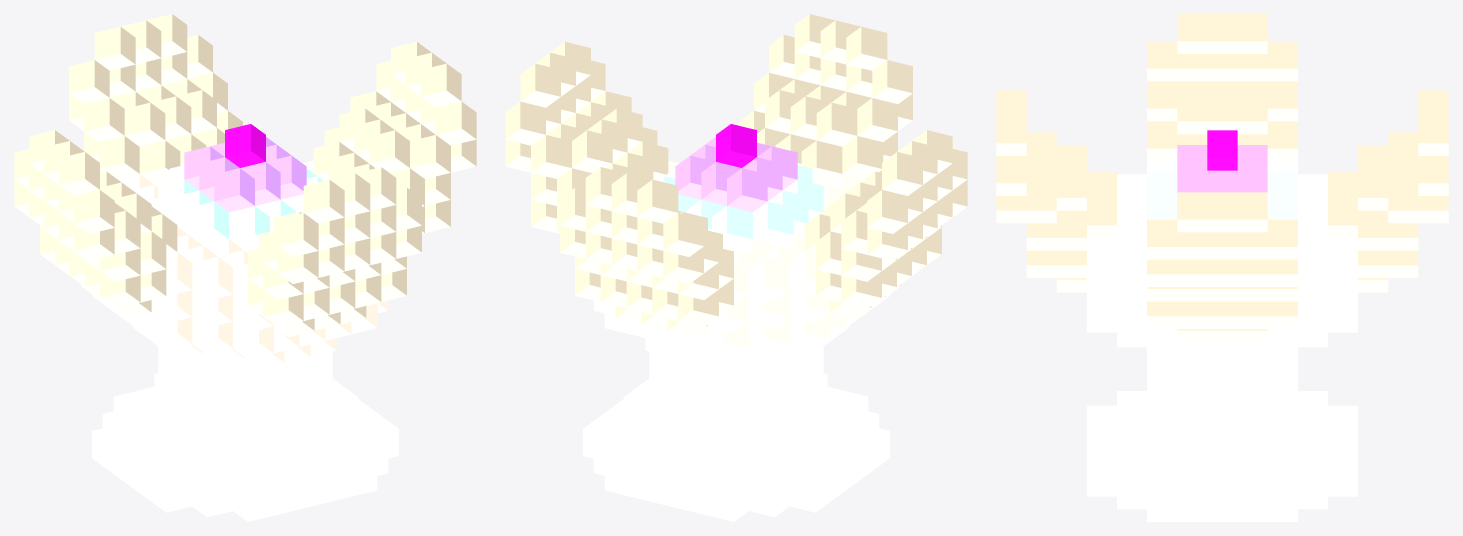
File: light_dispensor.gltf
The picture shows the model from 3 angles, left to right: view 1: azimuth 30°, elevation 25°; view 2: azimuth 150°, elevation 25°; view 3: azimuth 270°, elevation 25°; orthographic projection.
Visible parts, largest first — view 1: voxel_351, voxel_344, voxel_146, voxel_375, voxel_98, voxel_53, voxel_99, voxel_119, voxel_29, voxel_36, voxel_48, voxel_380 (+100 smaller); view 2: voxel_375, voxel_11, voxel_247, voxel_351, voxel_295, voxel_200, voxel_250, voxel_220, voxel_302, voxel_314, voxel_341, voxel_324 (+100 smaller); view 3: voxel_149, voxel_152, voxel_109, voxel_13, voxel_2, voxel_200, voxel_210, voxel_222, voxel_250, voxel_251, voxel_254, voxel_261 (+87 smaller).
Part boxes in pixels (bbox=[...]): voxel_351: bbox=[303, 179, 344, 223]; voxel_344: bbox=[124, 102, 165, 146]; voxel_146: bbox=[162, 424, 203, 468]; voxel_375: bbox=[94, 26, 135, 70]; voxel_98: bbox=[151, 468, 192, 512]; voxel_53: bbox=[436, 101, 476, 145]; voxel_99: bbox=[421, 63, 461, 107]; voxel_119: bbox=[188, 201, 228, 245]; voxel_29: bbox=[233, 477, 273, 521]; voxel_36: bbox=[192, 257, 232, 300]; voxel_48: bbox=[244, 433, 284, 477]; voxel_380: bbox=[69, 60, 109, 103]; voxel_375: bbox=[637, 179, 678, 223]; voxel_11: bbox=[816, 102, 857, 146]; voxel_247: bbox=[778, 424, 819, 468]; voxel_351: bbox=[846, 26, 887, 70]; voxel_295: bbox=[789, 468, 830, 512]; voxel_200: bbox=[520, 63, 560, 107]; voxel_250: bbox=[505, 101, 545, 145]; voxel_220: bbox=[753, 201, 793, 245]; voxel_302: bbox=[749, 257, 789, 300]; voxel_314: bbox=[697, 433, 737, 477]; voxel_341: bbox=[708, 477, 748, 521]; voxel_324: bbox=[872, 60, 912, 103]; voxel_149: bbox=[1207, 192, 1237, 232]; voxel_152: bbox=[1207, 130, 1237, 170]; voxel_109: bbox=[1177, 94, 1207, 134]; voxel_13: bbox=[1056, 170, 1086, 210]; voxel_2: bbox=[1056, 210, 1086, 250]; voxel_200: bbox=[1237, 192, 1267, 232]; voxel_210: bbox=[1237, 94, 1267, 134]; voxel_222: bbox=[1026, 183, 1056, 223]; voxel_250: bbox=[1267, 219, 1297, 259]; voxel_251: bbox=[1267, 41, 1297, 81]; voxel_254: bbox=[1267, 81, 1297, 121]; voxel_261: bbox=[1267, 121, 1297, 161].
Bounding box in the file's own units: 10.71 × 9.29 × 10.71.
